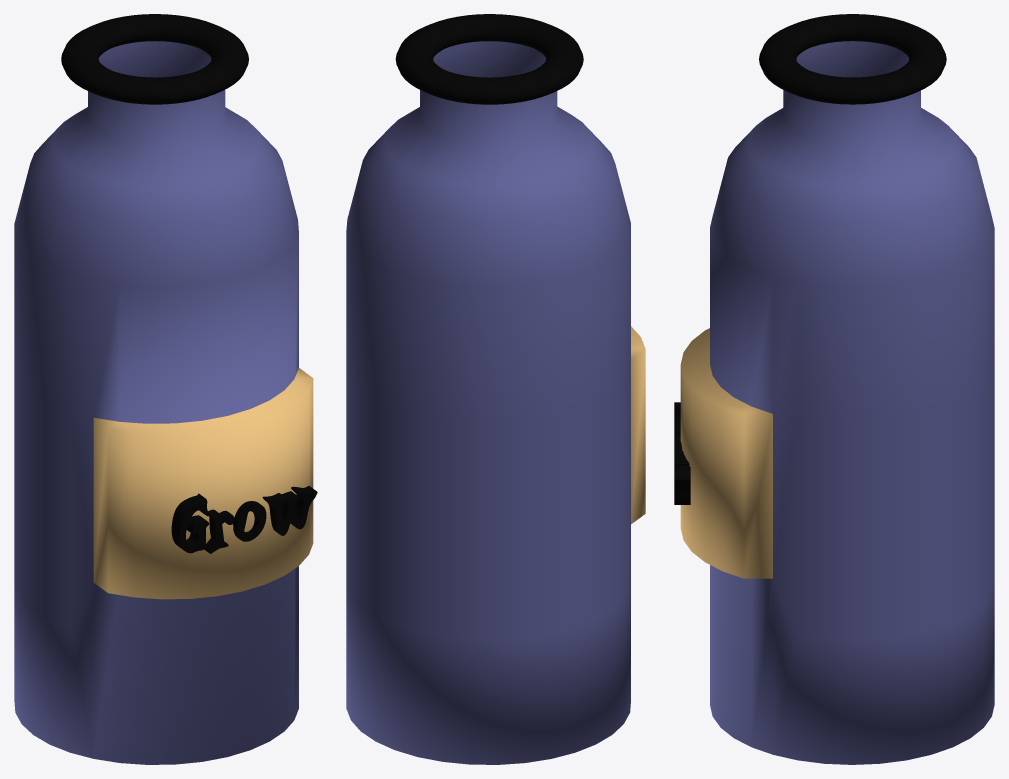
File: grow_potion.fbx
The picture shows the model from 3 angles, left to right: view 1: azimuth 30°, elevation 25°; view 2: azimuth 150°, elevation 25°; view 3: azimuth 270°, elevation 25°; orthographic projection.
Parts seen in each view (by area): view 1: Grow Potion; view 2: Grow Potion; view 3: Grow Potion.
Part boxes in pixels (bbox=[...]): Grow Potion: bbox=[14, 14, 317, 764]; Grow Potion: bbox=[346, 14, 645, 764]; Grow Potion: bbox=[674, 14, 994, 764].
Size of the model in its own units: 280 by 712 by 315.
